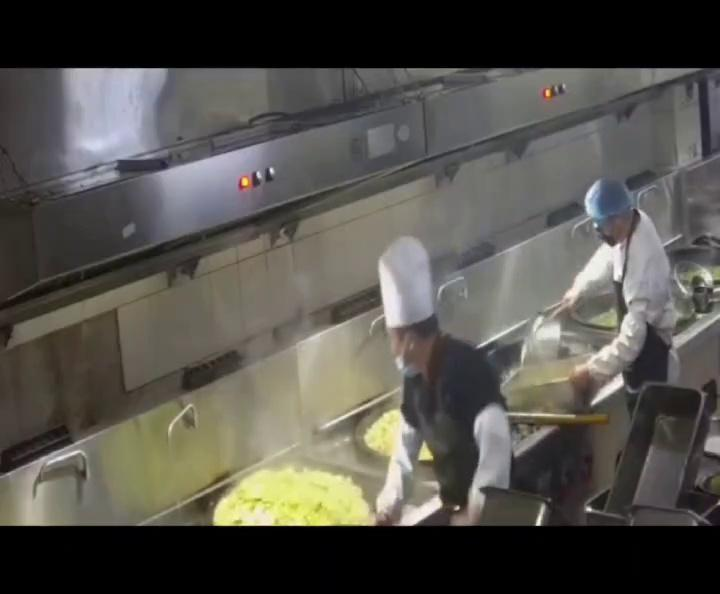mask: (386, 330, 420, 379)
